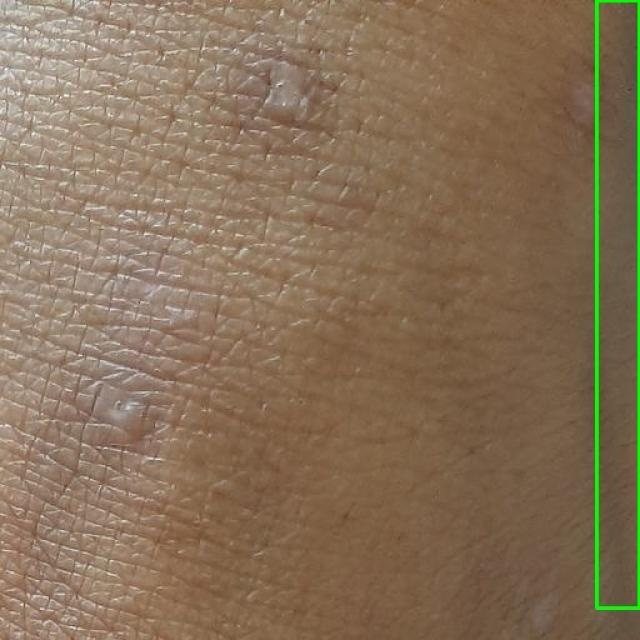Scabies: (596, 0, 639, 608)
